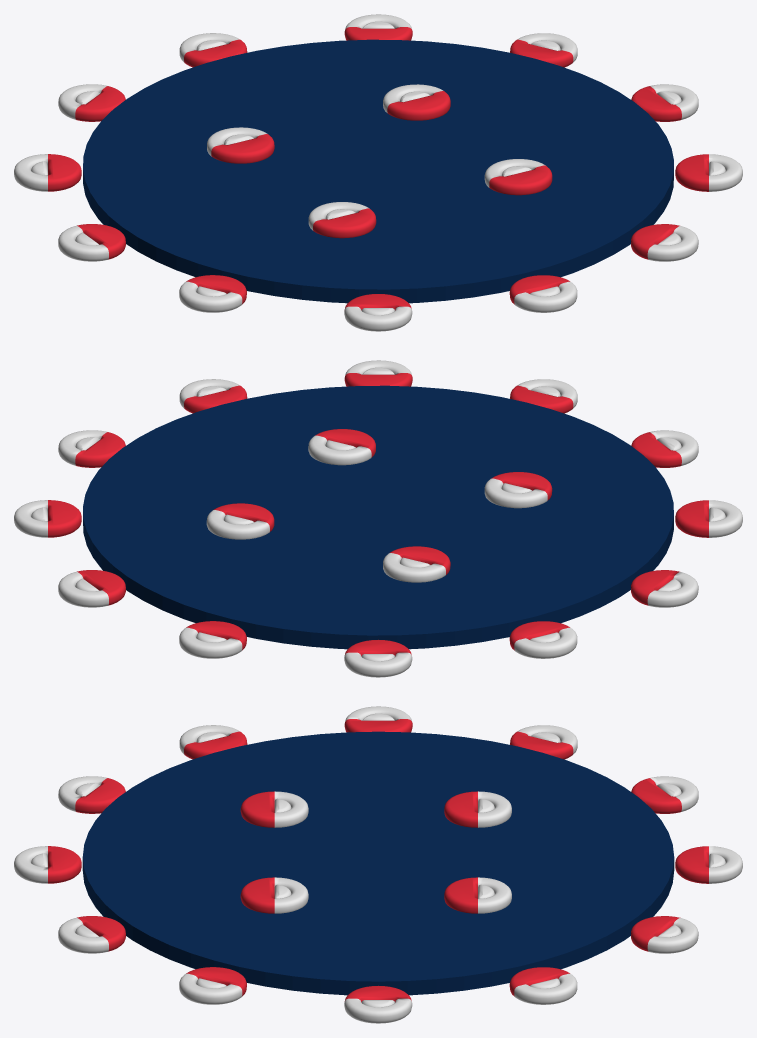
File: yohualli_3d.gltf
3 views of the same model, one above another, from view 1: azimuth 30°, elevation 25°; view 2: azimuth 150°, elevation 25°; view 3: azimuth 270°, elevation 25° (orthographic).
Parts seen in each view (by area): view 1: Outer circle.003, Star.002, outer.005, outer.006, outer.007, outer.008; view 2: Outer circle.003, Star.002, outer.007, outer.008, outer.006, outer.005; view 3: Outer circle.003, Star.002, outer.005, outer.006, outer.008, outer.007.
Part boxes in pixels (box(x1,y1,x2,y2)): Outer circle.003: box(83, 39, 673, 303); Star.002: box(14, 14, 742, 331); outer.005: box(484, 159, 552, 195); outer.006: box(308, 202, 376, 238); outer.007: box(383, 84, 450, 120); outer.008: box(207, 127, 274, 163); Outer circle.003: box(83, 385, 673, 649); Star.002: box(14, 360, 742, 677); outer.007: box(206, 503, 274, 539); outer.008: box(383, 546, 450, 582); outer.006: box(484, 472, 552, 508); outer.005: box(308, 429, 375, 465); Outer circle.003: box(82, 731, 674, 995); Star.002: box(14, 706, 742, 1023); outer.005: box(240, 877, 308, 913); outer.006: box(240, 791, 308, 827); outer.008: box(444, 791, 511, 827); outer.007: box(444, 877, 511, 913).
Bounding box in the file's own units: 5.06 × 0.1838 × 5.06.
